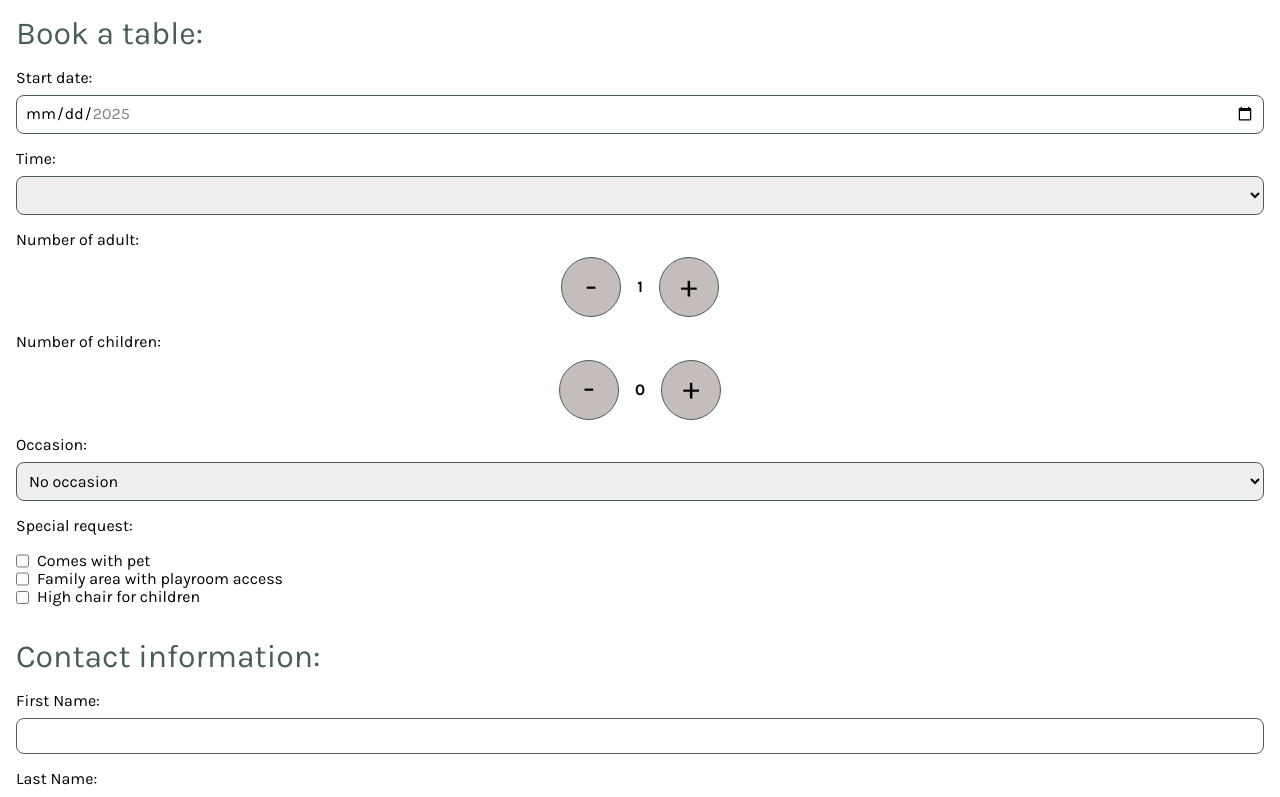
Test: Reservation form increase and decrease buttons › should increase countAdults by 3 decrease by 1 and give result 3
Click the button with test id "increase_adult" at (689,287), box [659,257,719,317]
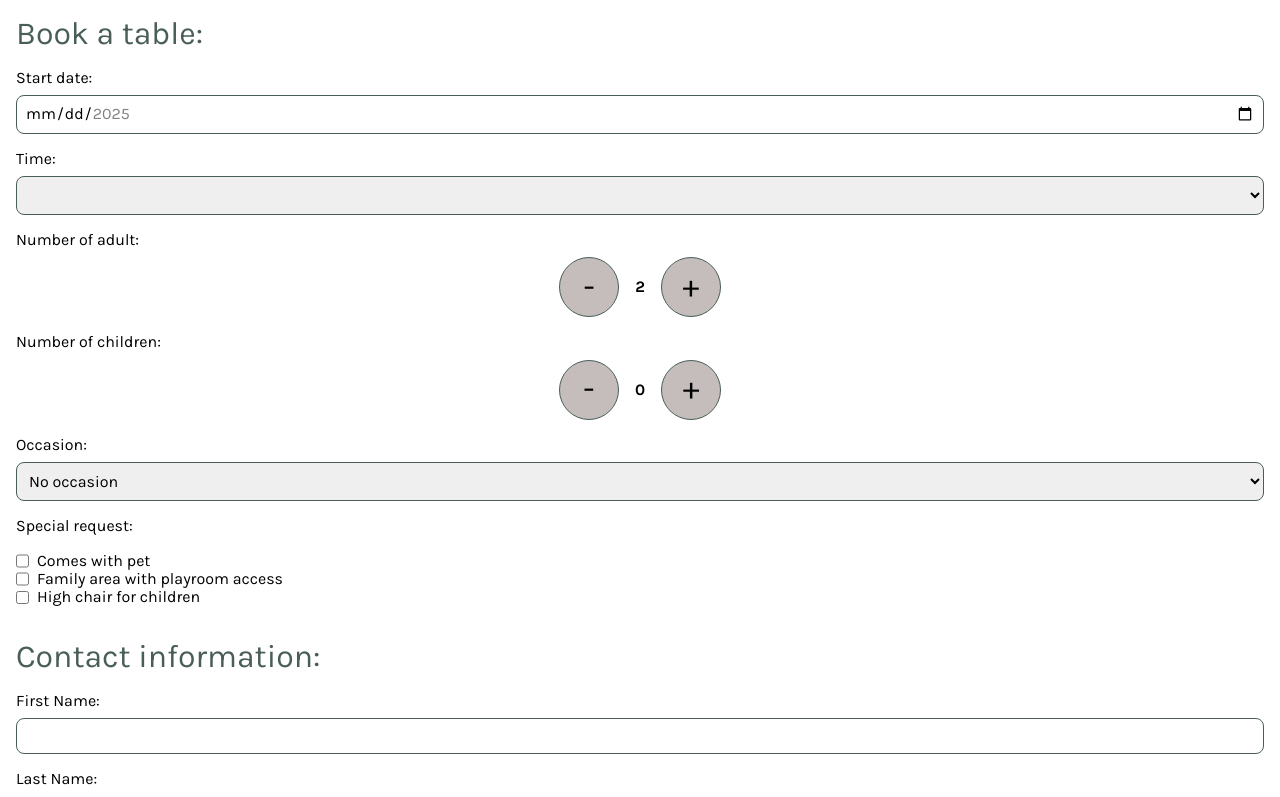
Click the button with test id "increase_adult" at (691,287), box [661,257,721,317]
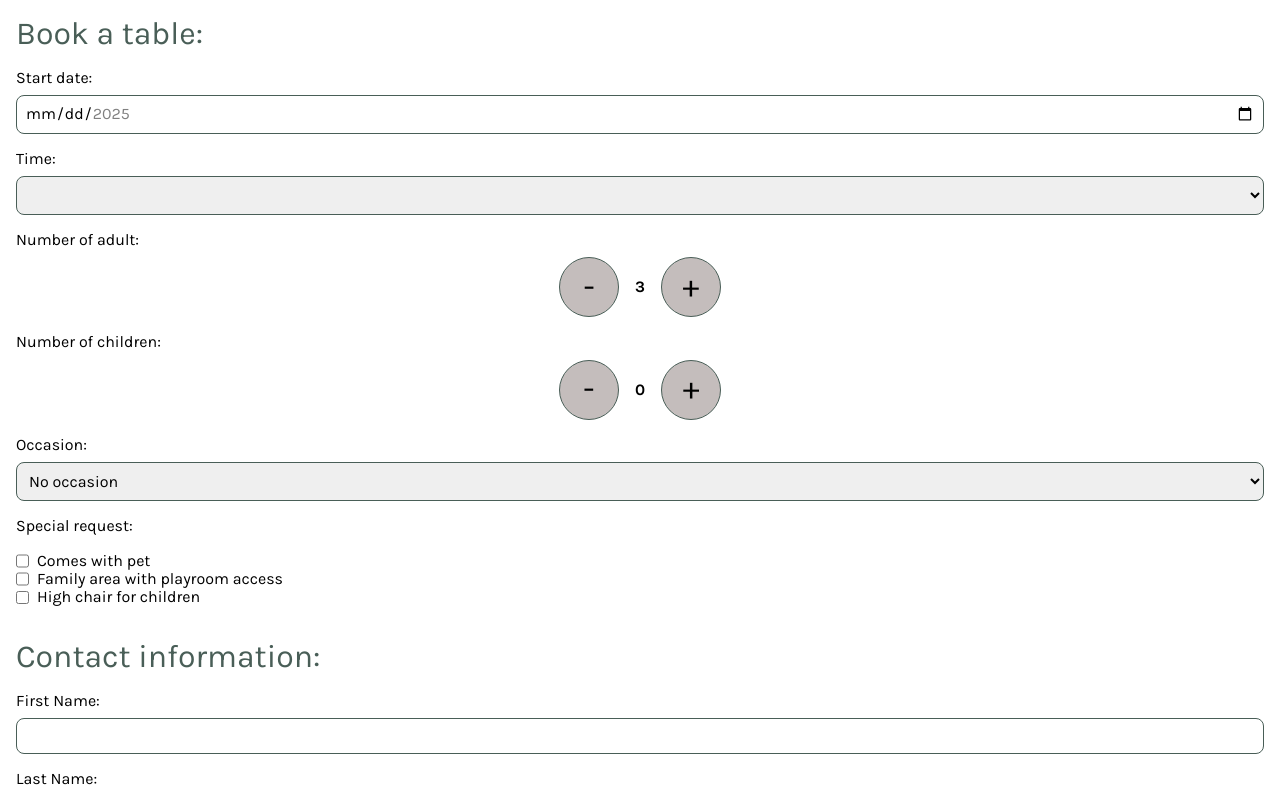
Click the button with test id "increase_adult" at (691,287), box [661,257,721,317]
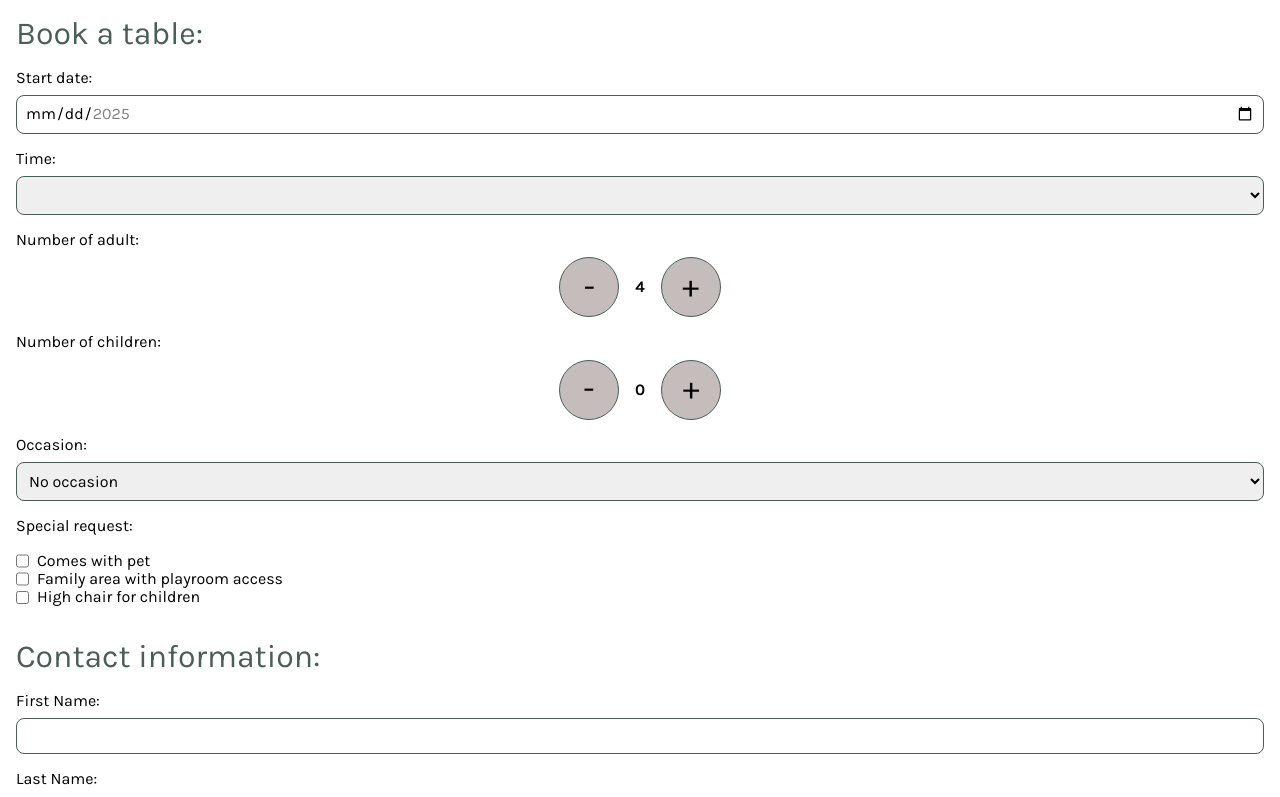
Click the button with test id "decrease_adult" at (589,287), box [559,257,619,317]
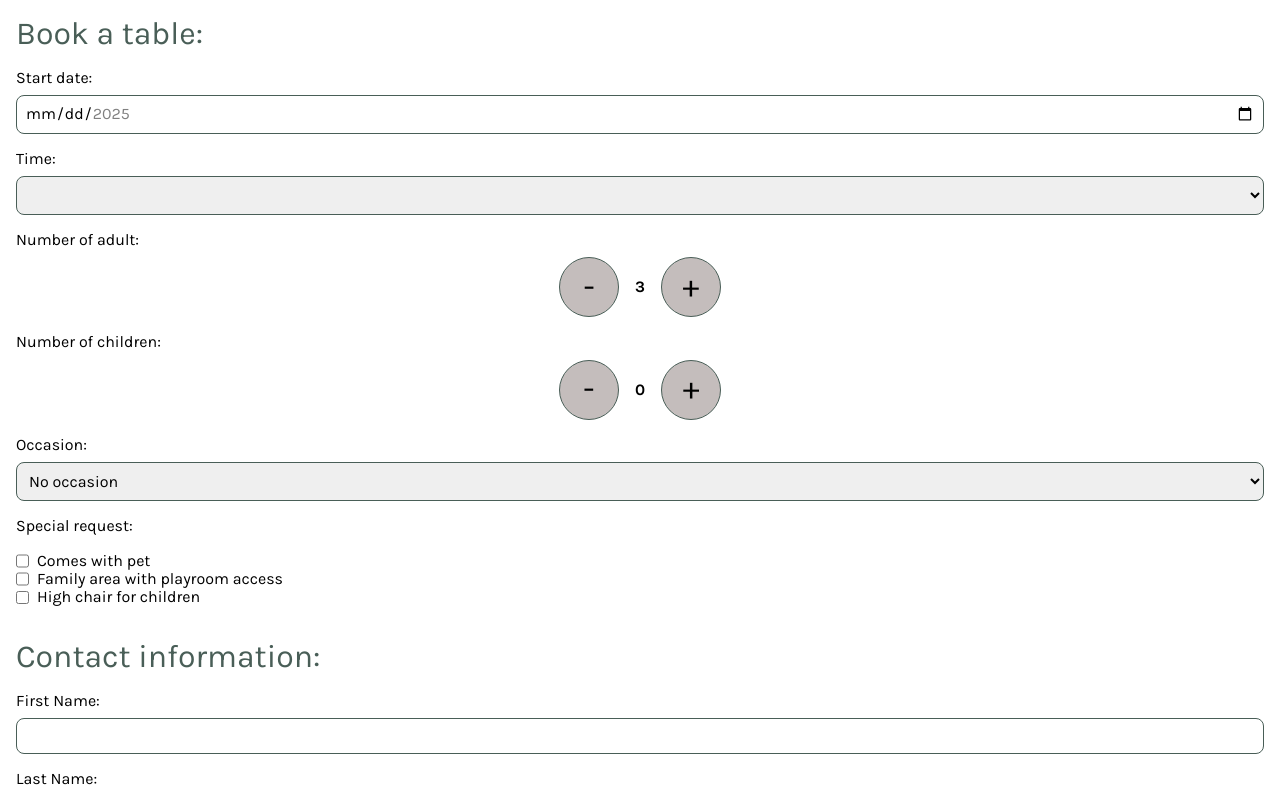
Check: the text with test id "result_adult" reads "3", box [635,277,645,296]
